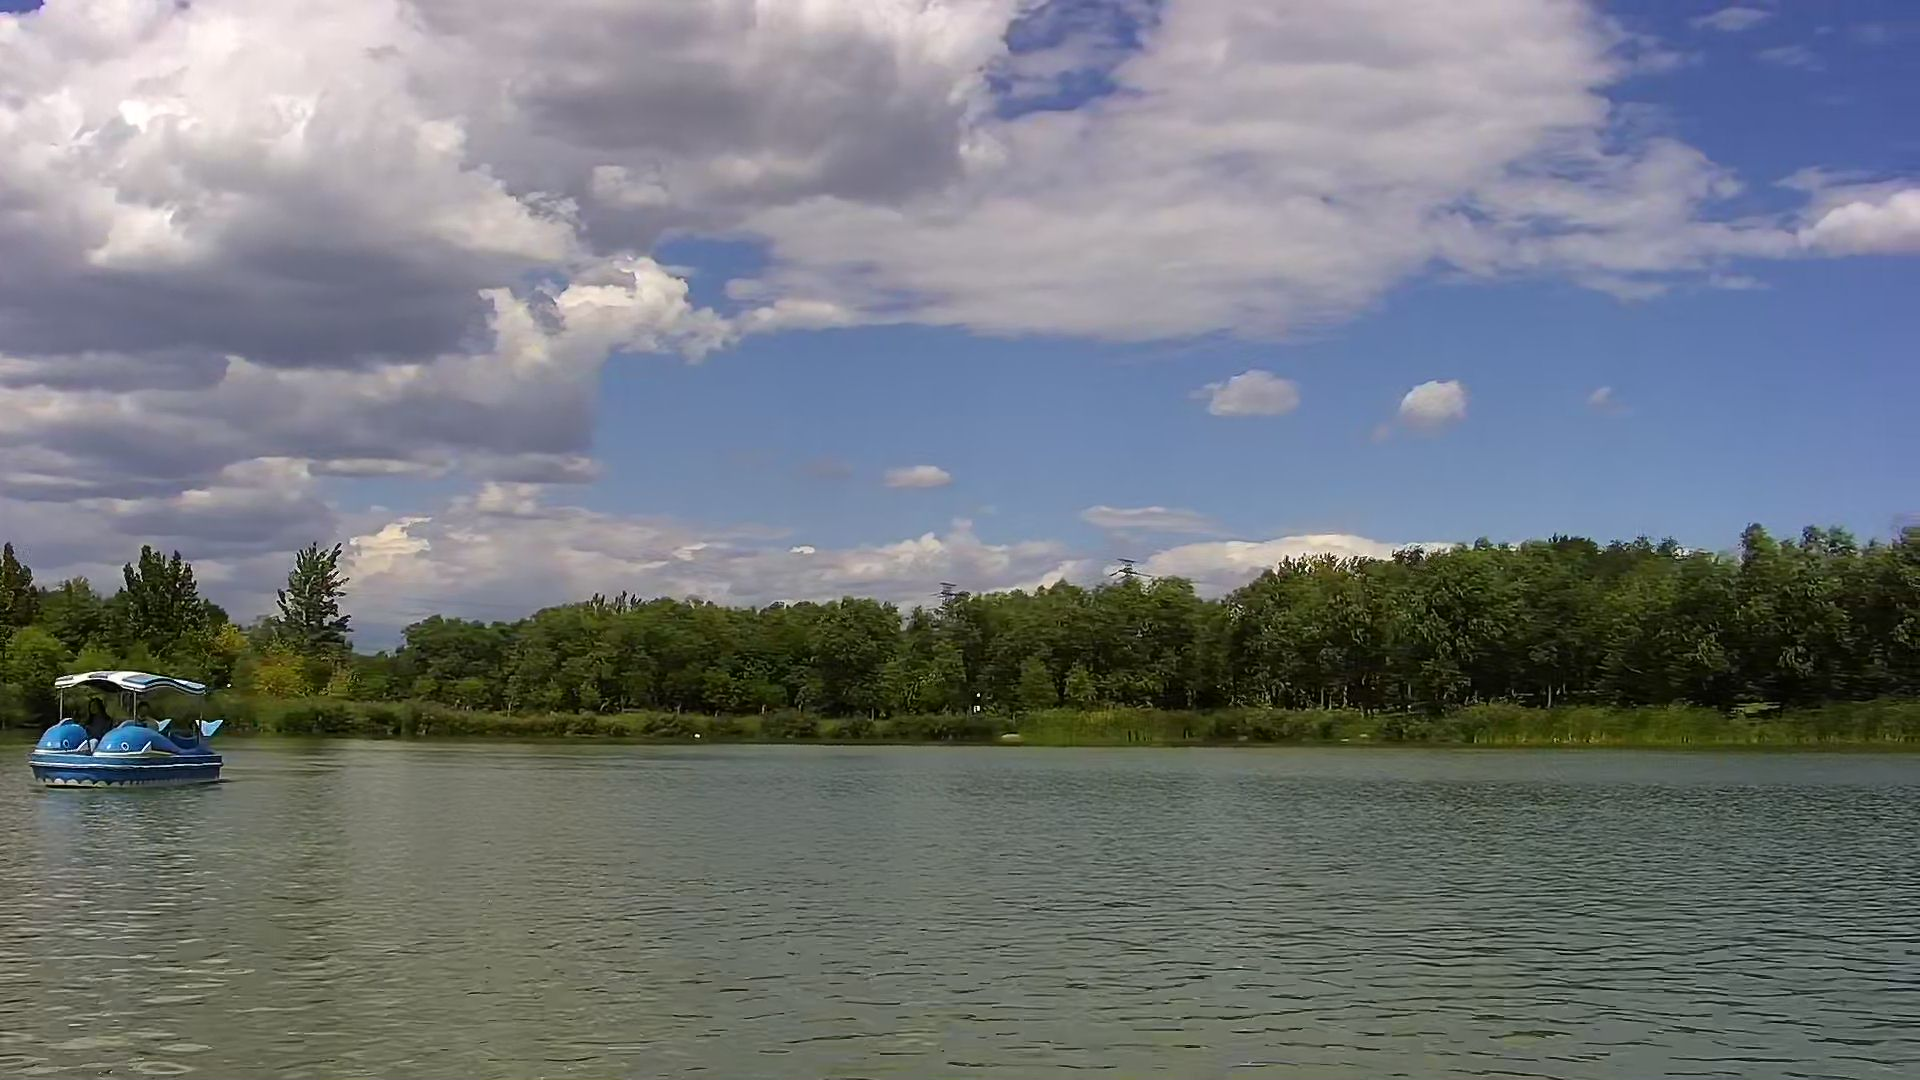boat: (26, 665, 228, 787)
